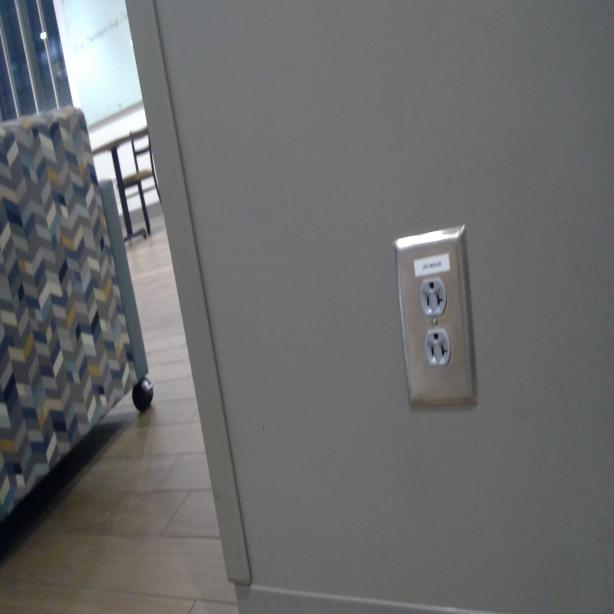typeb: (420, 277, 445, 318), (425, 330, 449, 366)
